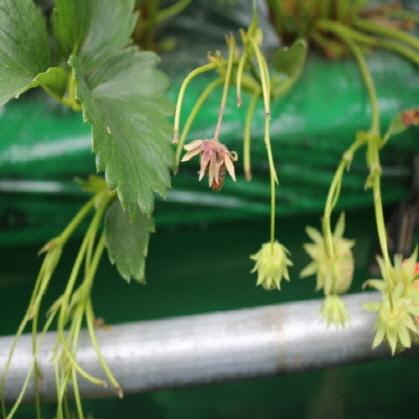Gray Mold: (179, 133, 239, 192)
